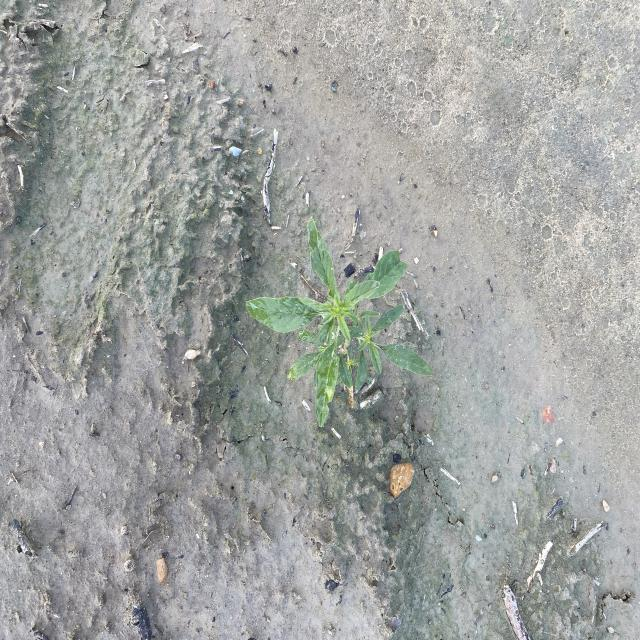Waterhemp: (244, 215, 436, 431)
